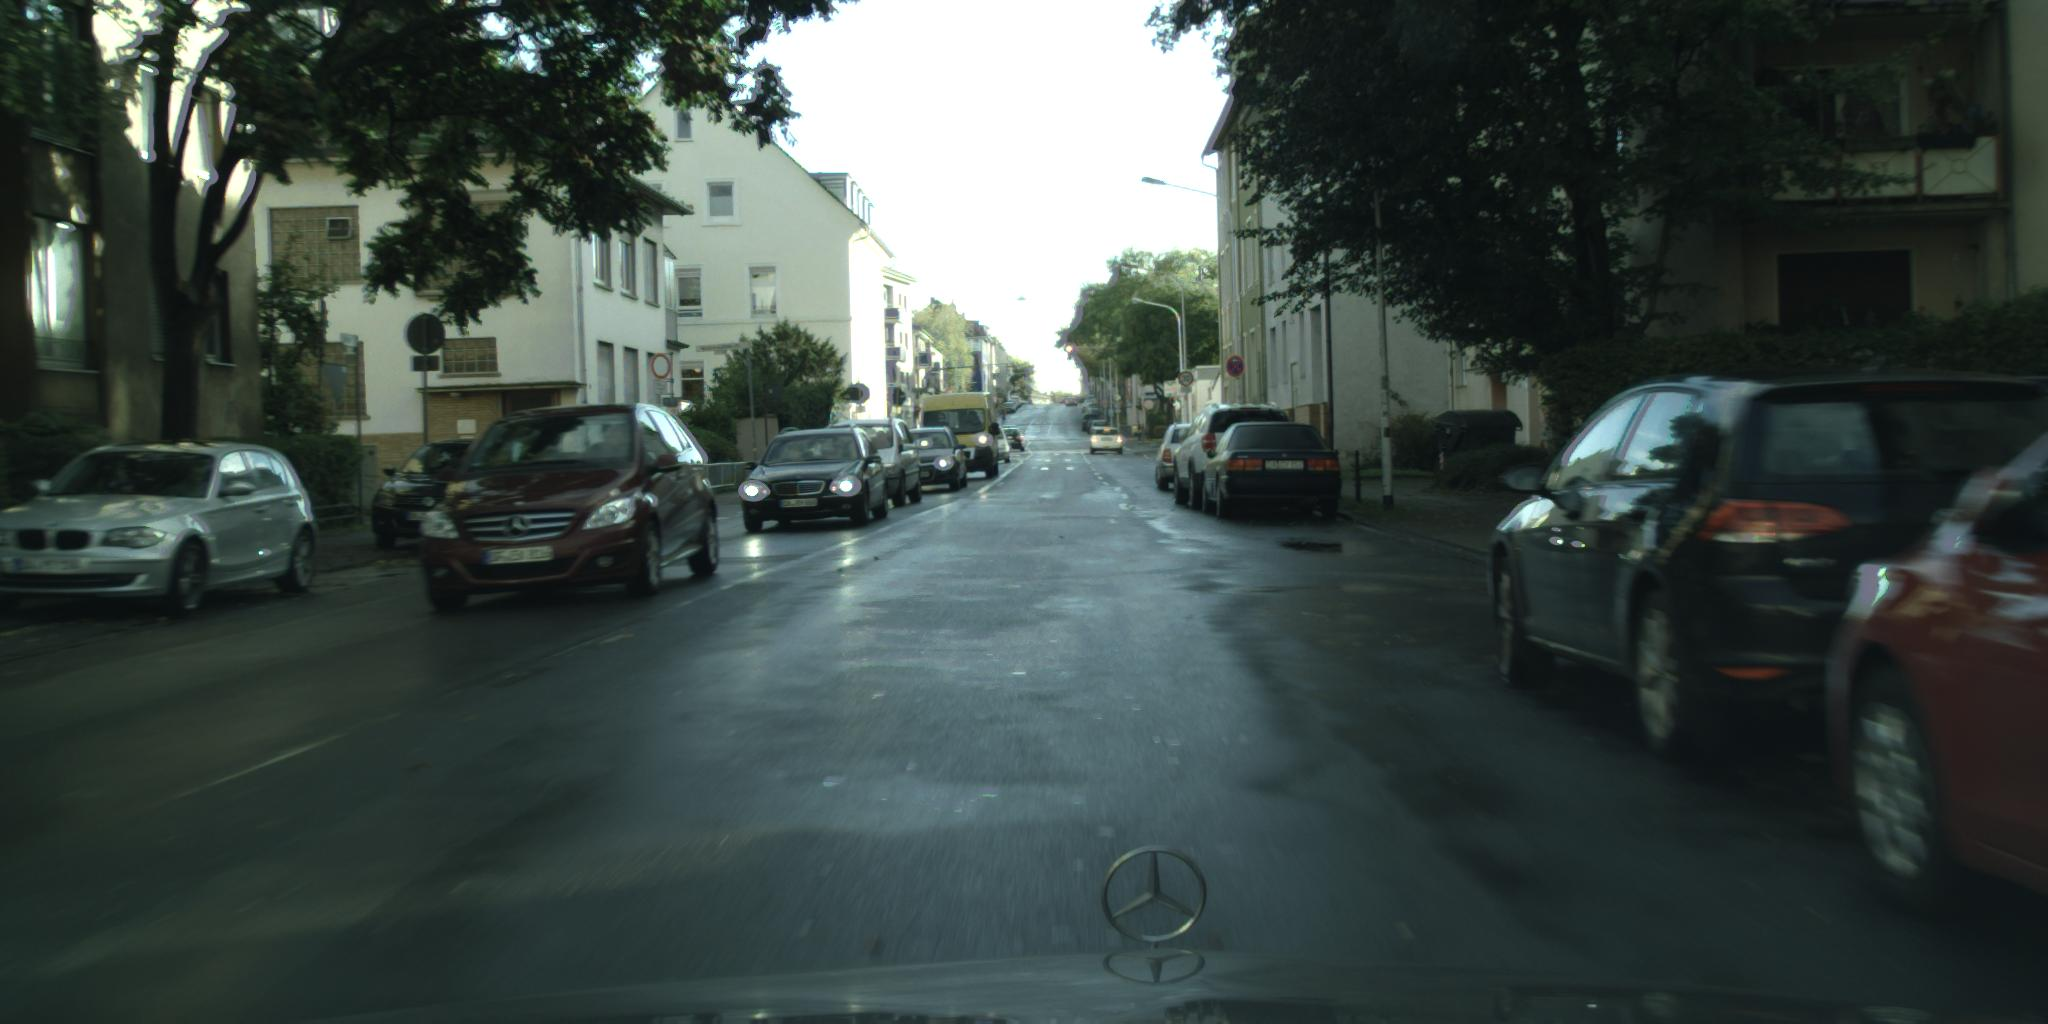car: (1486, 367, 2048, 765), (1819, 428, 2048, 922), (419, 404, 720, 613), (1, 441, 321, 618), (738, 424, 888, 533), (1174, 404, 1309, 513), (372, 439, 498, 551), (1203, 423, 1341, 522), (816, 418, 923, 505), (922, 393, 1002, 479), (903, 427, 968, 491), (1156, 424, 1206, 491), (1091, 428, 1123, 455), (990, 427, 1011, 462), (993, 430, 1025, 452), (1091, 421, 1112, 435), (1002, 404, 1017, 414), (1064, 398, 1078, 408)
